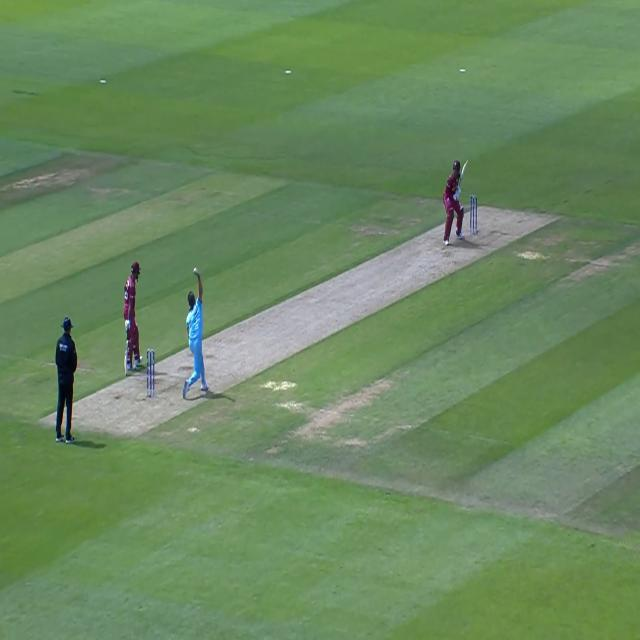ball: (192, 264, 200, 275)
